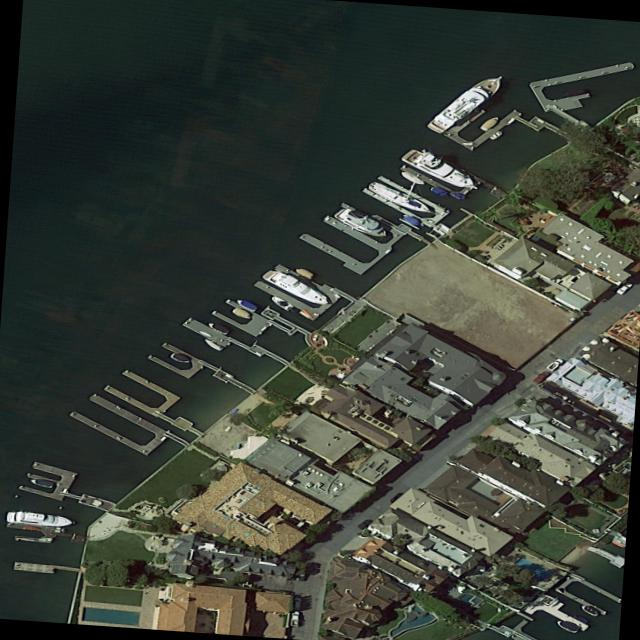large-vehicle: (544, 357, 564, 371)
ship: (423, 72, 508, 134), (399, 146, 482, 193), (259, 268, 332, 307), (364, 179, 434, 219), (330, 206, 391, 241), (4, 510, 72, 528), (554, 617, 583, 634), (397, 170, 426, 187), (266, 295, 293, 310), (477, 115, 500, 131), (232, 298, 258, 312), (204, 321, 229, 335), (200, 337, 224, 351), (229, 307, 252, 320), (166, 351, 190, 363), (292, 266, 314, 279), (561, 87, 586, 98), (28, 477, 53, 488), (578, 604, 599, 616), (427, 185, 448, 197), (399, 214, 419, 226), (486, 129, 502, 140)
small-vehicle: (613, 281, 633, 295), (530, 370, 549, 384), (354, 519, 372, 530), (288, 611, 298, 626), (295, 567, 305, 580), (291, 597, 301, 610)
